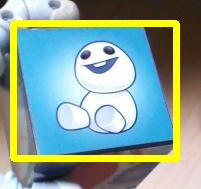Blue1: (13, 22, 176, 157)
